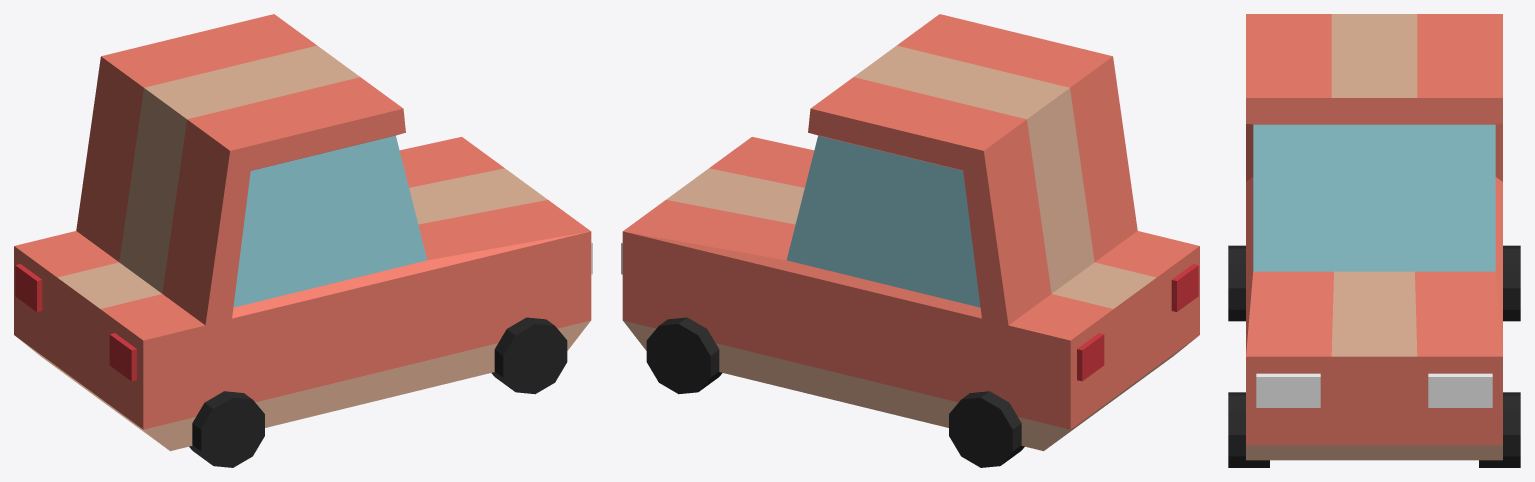
The model's file is Car 1.fbx.
3 views of the same model, side by side, from view 1: azimuth 30°, elevation 25°; view 2: azimuth 150°, elevation 25°; view 3: azimuth 270°, elevation 25° (orthographic).
Visible parts, largest first — view 1: Car_1; view 2: Car_1; view 3: Car_1.
Part boxes in pixels (bbox=[...]): Car_1: bbox=[14, 14, 592, 467]; Car_1: bbox=[621, 14, 1199, 467]; Car_1: bbox=[1228, 14, 1520, 467].
Size of the model in its own units: 411 by 264 by 227.
